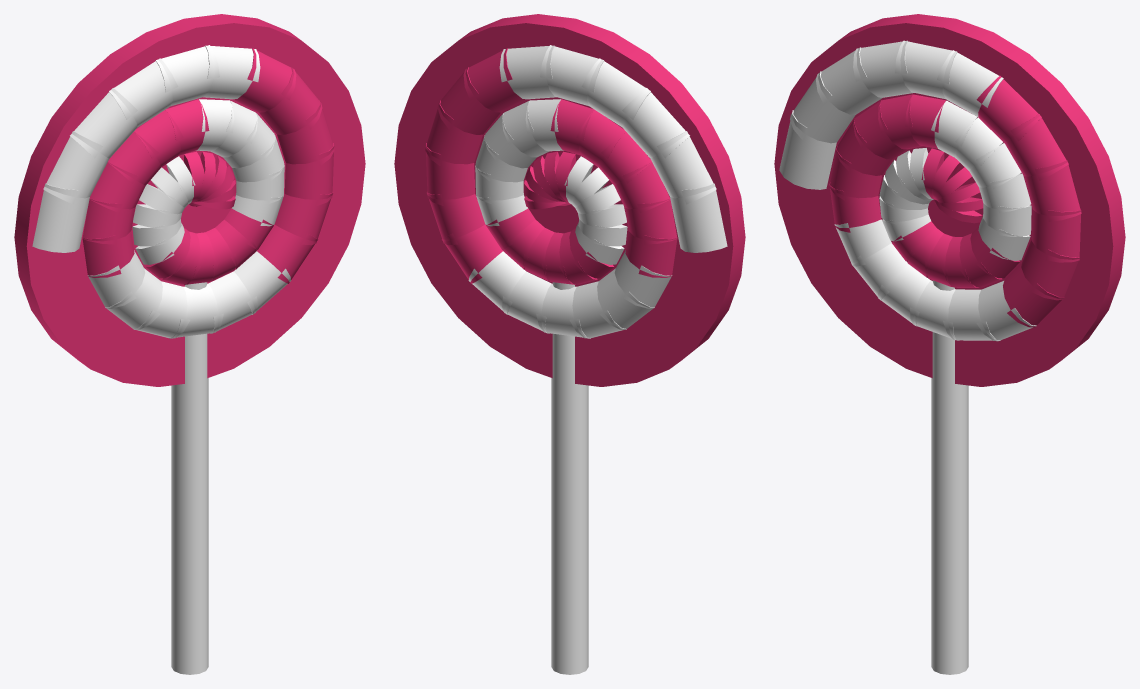
File: lollipop.glb
3 views of the same model, side by side, from view 1: azimuth 30°, elevation 25°; view 2: azimuth 150°, elevation 25°; view 3: azimuth 330°, elevation 25° (orthographic).
Parts seen in each view (by area): view 1: Disc, Stick, Swirl47, Swirl46, Swirl45, Swirl44, Swirl43, Swirl42, Swirl41, Swirl40, Swirl39, Swirl38 (+34 smaller); view 2: Disc, Stick, Swirl47, Swirl46, Swirl45, Swirl44, Swirl43, Swirl42, Swirl41, Swirl40, Swirl39, Swirl38 (+34 smaller); view 3: Disc, Stick, Swirl47, Swirl42, Swirl41, Swirl43, Swirl44, Swirl45, Swirl46, Swirl40, Swirl39, Swirl38 (+34 smaller).
Part boxes in pixels (bbox=[...]): Disc: bbox=[14, 14, 365, 386]; Stick: bbox=[171, 282, 208, 674]; Swirl47: bbox=[32, 183, 89, 252]; Swirl46: bbox=[43, 131, 108, 204]; Swirl45: bbox=[70, 88, 137, 158]; Swirl44: bbox=[109, 58, 178, 127]; Swirl43: bbox=[155, 45, 219, 105]; Swirl42: bbox=[203, 45, 260, 99]; Swirl41: bbox=[233, 48, 296, 112]; Swirl40: bbox=[259, 67, 322, 134]; Swirl39: bbox=[277, 100, 334, 165]; Swirl38: bbox=[284, 143, 334, 205]; Disc: bbox=[394, 14, 745, 386]; Stick: bbox=[551, 282, 588, 674]; Swirl47: bbox=[670, 183, 727, 252]; Swirl46: bbox=[651, 131, 716, 204]; Swirl45: bbox=[622, 88, 689, 158]; Swirl44: bbox=[581, 58, 650, 127]; Swirl43: bbox=[540, 45, 604, 105]; Swirl42: bbox=[499, 45, 556, 99]; Swirl41: bbox=[463, 48, 526, 112]; Swirl40: bbox=[437, 67, 500, 134]; Swirl39: bbox=[425, 100, 482, 165]; Swirl38: bbox=[425, 143, 475, 205]; Disc: bbox=[774, 14, 1125, 386]; Stick: bbox=[931, 280, 968, 674]; Swirl47: bbox=[779, 110, 836, 189]; Swirl42: bbox=[937, 50, 1003, 116]; Swirl41: bbox=[976, 76, 1041, 143]; Swirl43: bbox=[895, 40, 957, 99]; Swirl44: bbox=[853, 40, 913, 97]; Swirl45: bbox=[816, 47, 882, 114]; Swirl46: bbox=[790, 71, 855, 143]; Swirl40: bbox=[1005, 114, 1068, 180]; Swirl39: bbox=[1024, 160, 1081, 221]; Swirl38: bbox=[1031, 209, 1081, 262].
Size of the model in its own units: 1.9 by 3.45 by 0.3.
